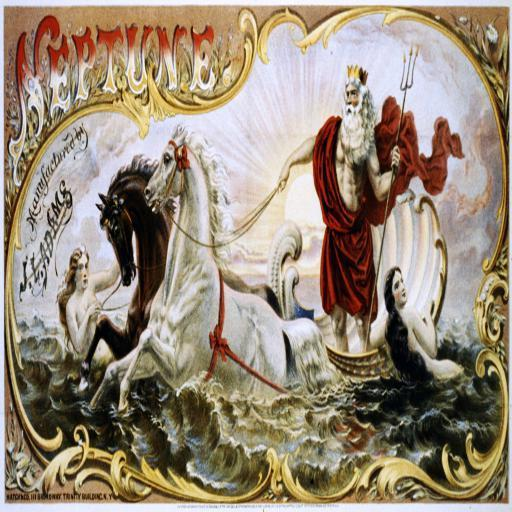horse: (86, 115, 338, 419), (78, 149, 284, 403)
